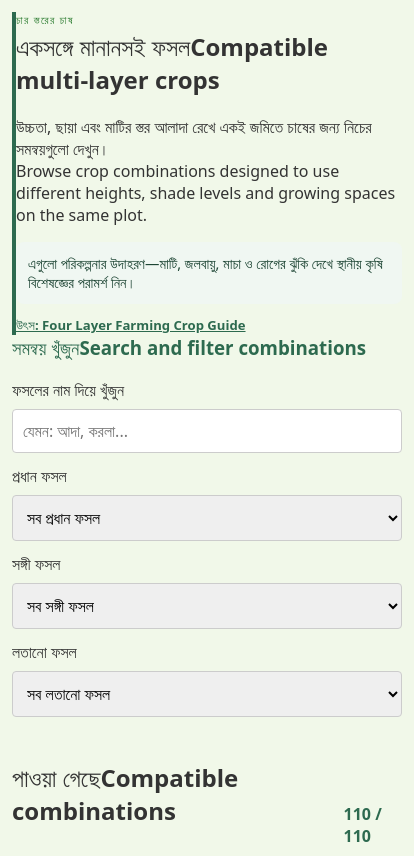
Test case: Multi-layer compatibility page › narrows visible combinations when a crop is searched
The image size is (414, 856).
Type "Turmeric" into the search field at (207, 431), box [12, 409, 402, 453]
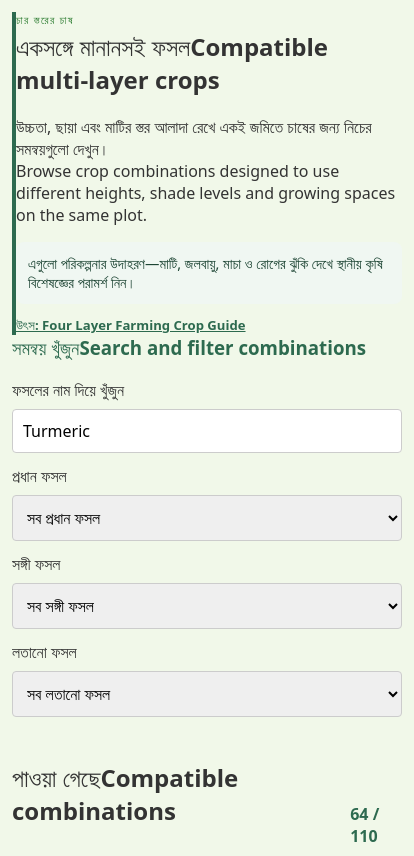
Now the text "64 / 110" is shown, box [350, 803, 379, 847]
